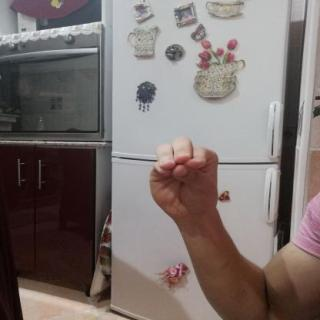HA: (139, 130, 229, 227)
